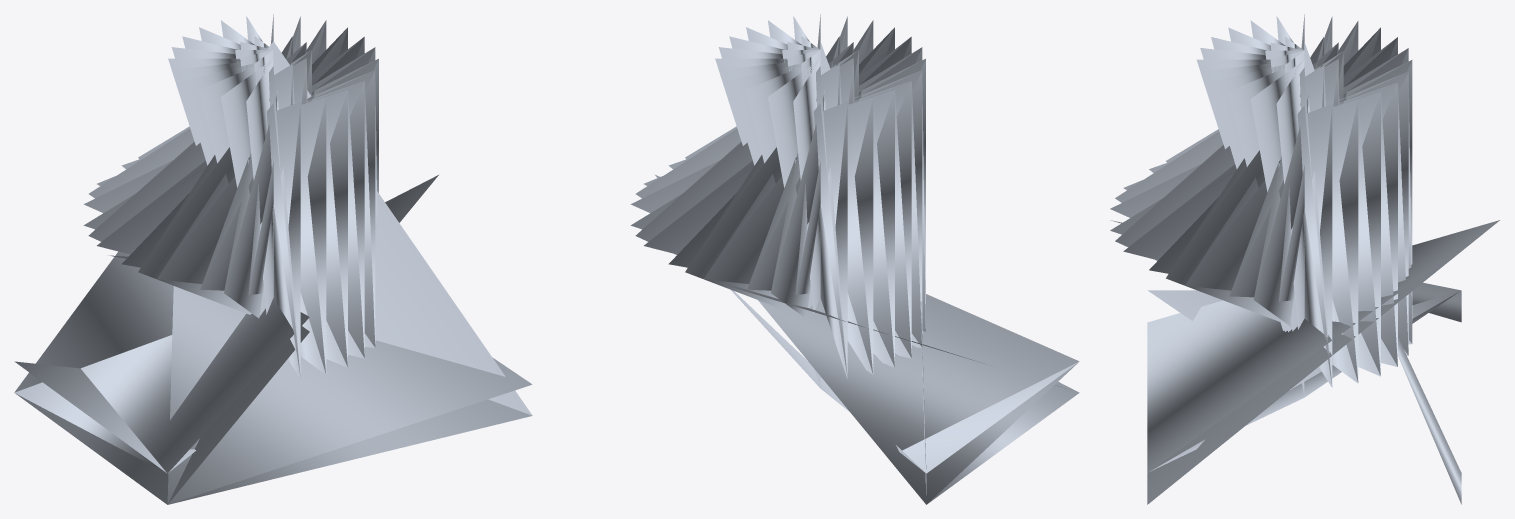
The model's file is hydraulic_cylinder.glb.
The picture shows the model from 3 angles, left to right: view 1: azimuth 30°, elevation 25°; view 2: azimuth 150°, elevation 25°; view 3: azimuth 270°, elevation 25°; orthographic projection. The views are drawn at different scales.
Visible parts, largest first — view 1: tool; view 2: tool; view 3: tool.
Boxes of the visible parts, x1,y1,x2,y2 form: tool: [14, 14, 532, 504]; tool: [630, 14, 1079, 504]; tool: [1110, 14, 1499, 504].
Size of the model in its own units: 2.2 by 2.09 by 2.
